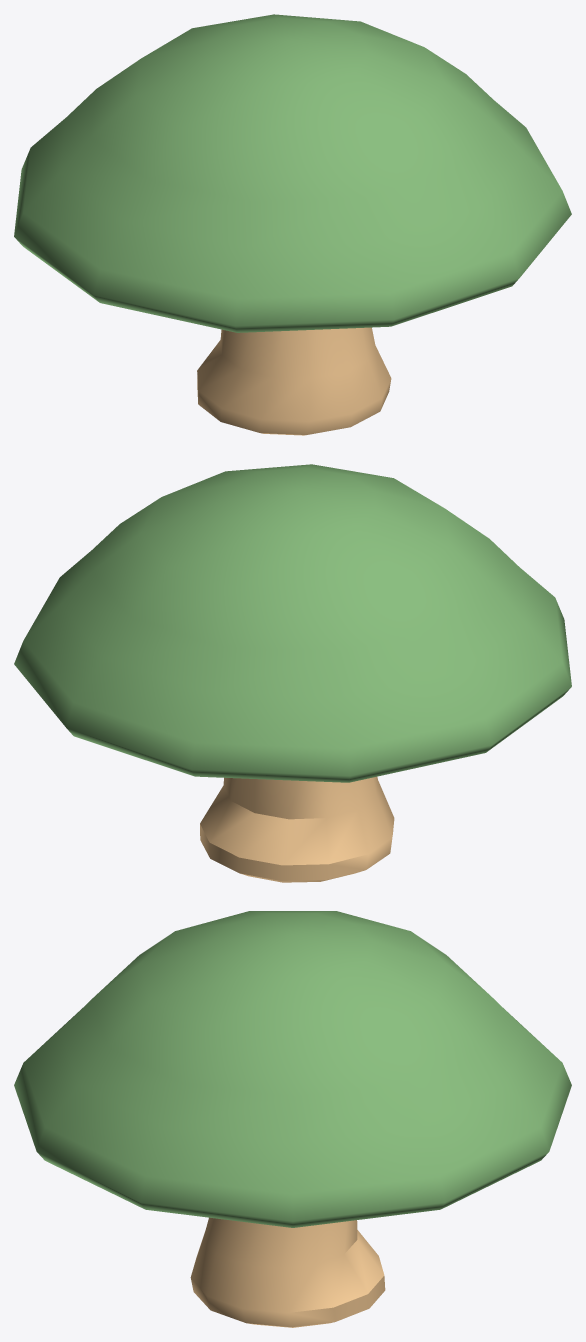
Rendered from Hongo_3.fbx.
3 renders of one model, top to bottom at view 1: azimuth 30°, elevation 25°; view 2: azimuth 150°, elevation 25°; view 3: azimuth 270°, elevation 25°, orthographic.
Parts seen in each view (by area): view 1: Honquito_3; view 2: Honquito_3; view 3: Honquito_3.
Part boxes in pixels (x1=…): Honquito_3: x1=14, y1=14, x2=571, y2=435; Honquito_3: x1=14, y1=464, x2=571, y2=882; Honquito_3: x1=14, y1=911, x2=571, y2=1327.
Bounding box in the file's own units: 48.3 × 34.5 × 48.79.
1 material, 1 textured.
